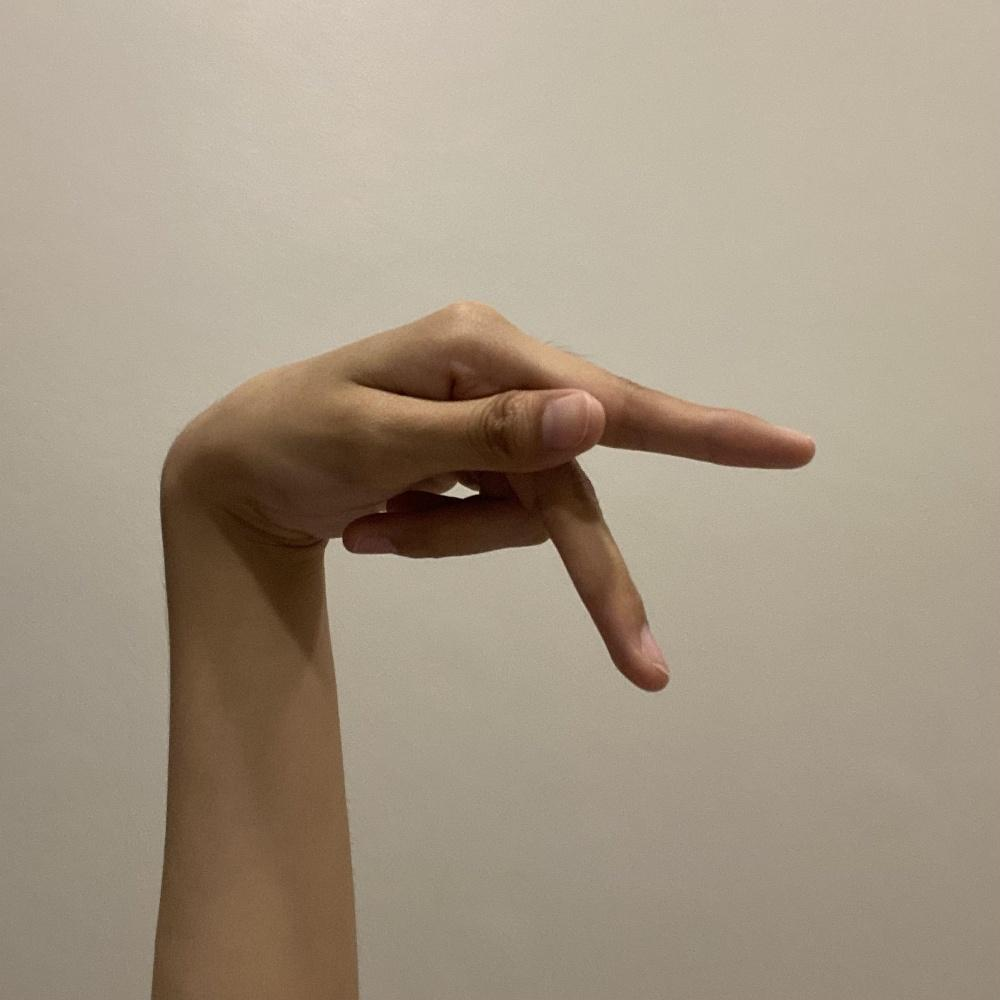p: (218, 296, 821, 698)
